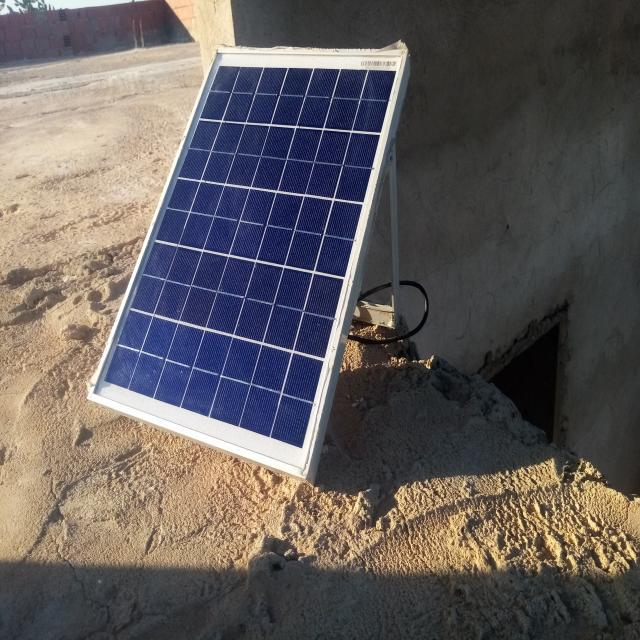no faulty: (88, 49, 408, 478)
